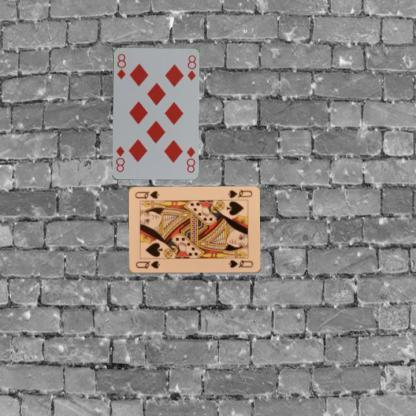8d: (115, 50, 127, 80), (184, 144, 196, 174)
Qs: (133, 258, 161, 270), (225, 188, 252, 200)
